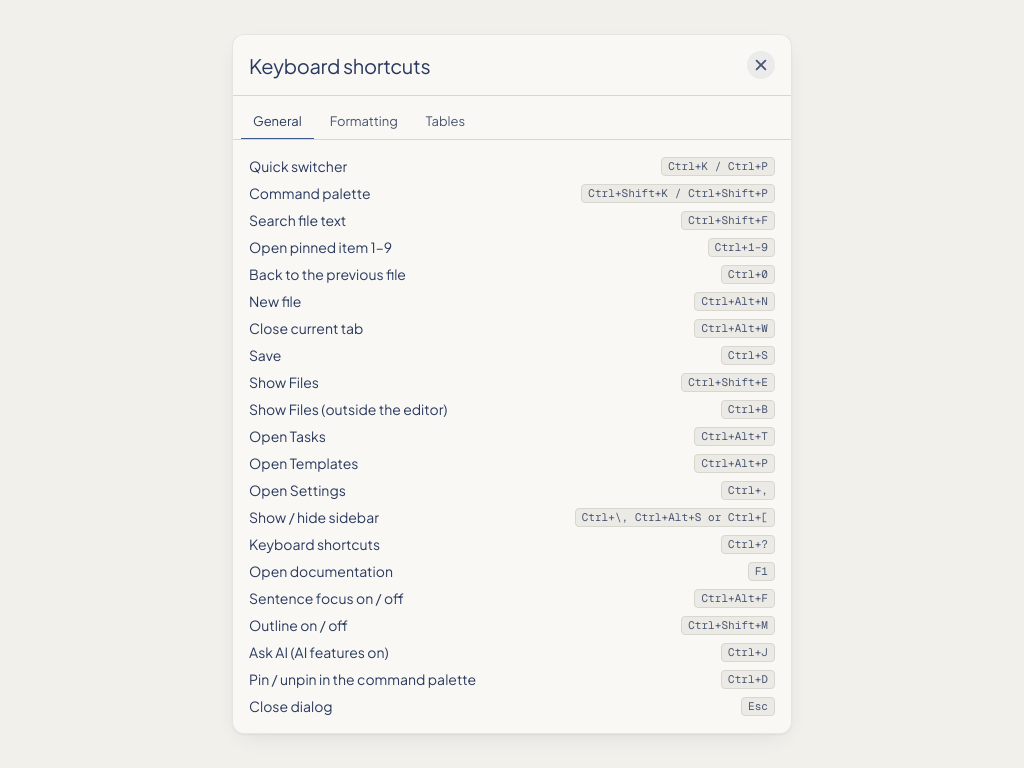
Test: KeyboardShortcutsOverlay › lists formatting shortcuts without registered commands
Step 1. Click the tab "Formatting" → point(364, 122), box 318,104 -> 410,140
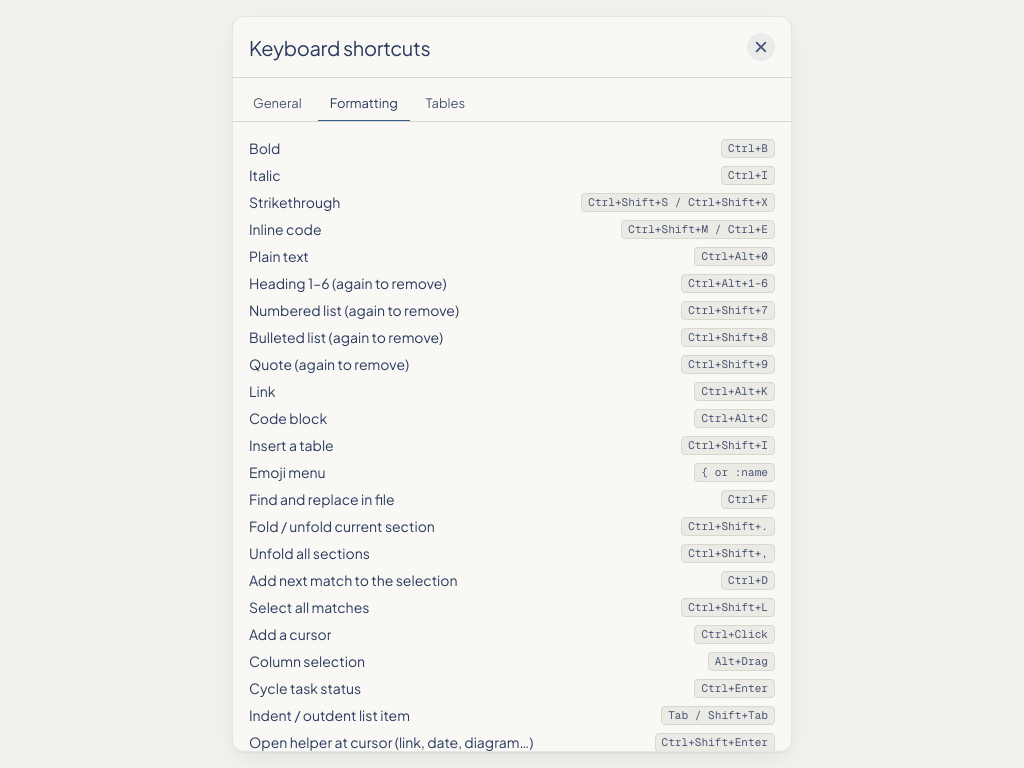
Check: the text "Bold" is shown, box 249,138 -> 280,159
Check: the text "Inline code" is shown, box 249,219 -> 322,240
